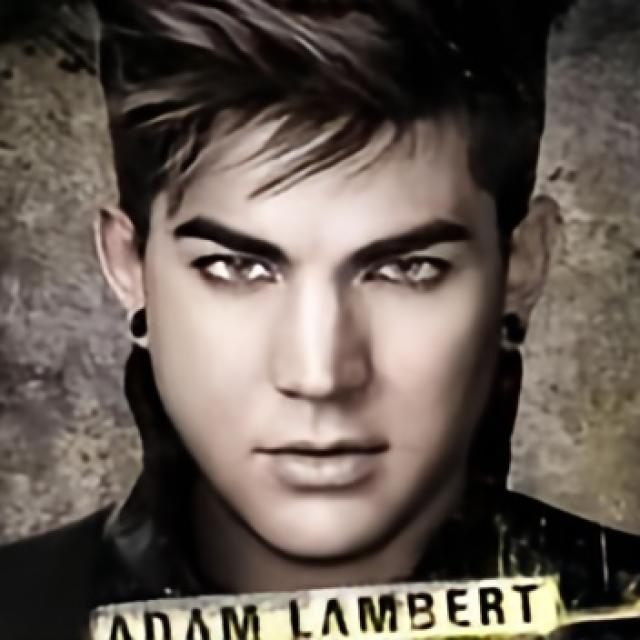anger: (147, 103, 500, 554)
